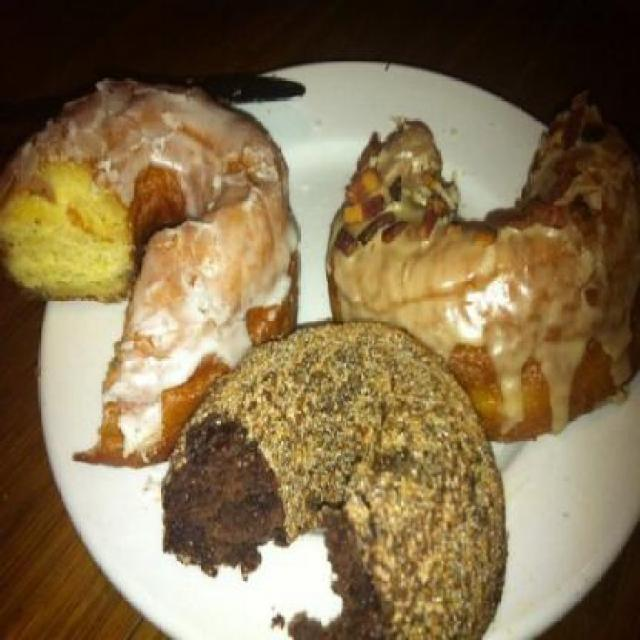Donuts: (3, 76, 640, 638)
